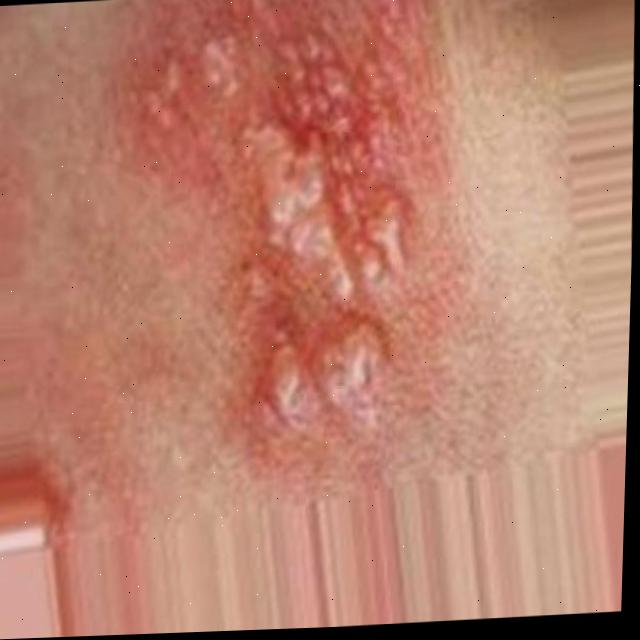Shingles: (102, 0, 468, 458)
